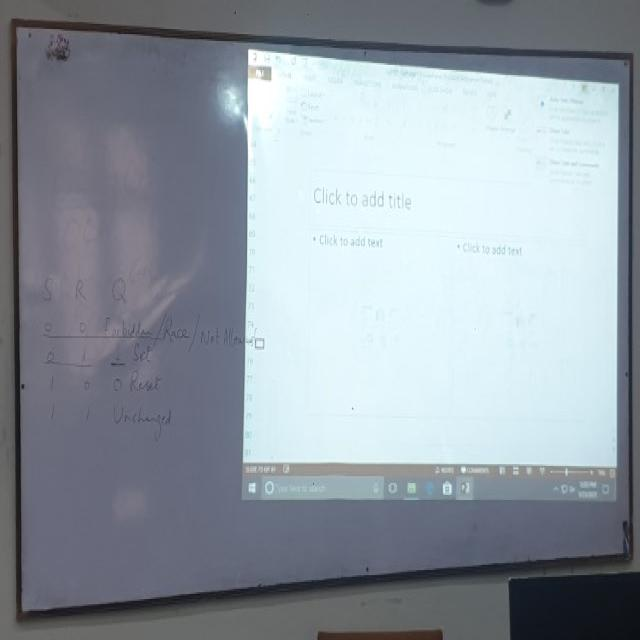Slide: (238, 50, 620, 505)
White-board: (14, 27, 632, 619)
